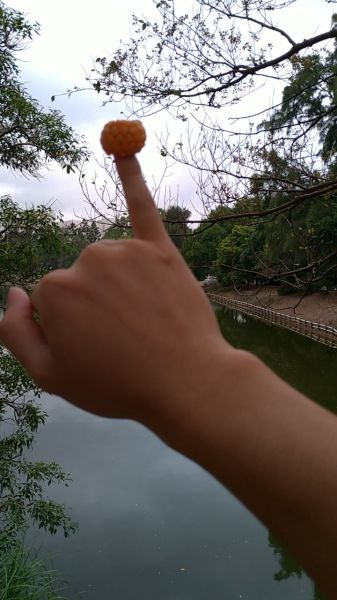eggs: (100, 120, 147, 159)
